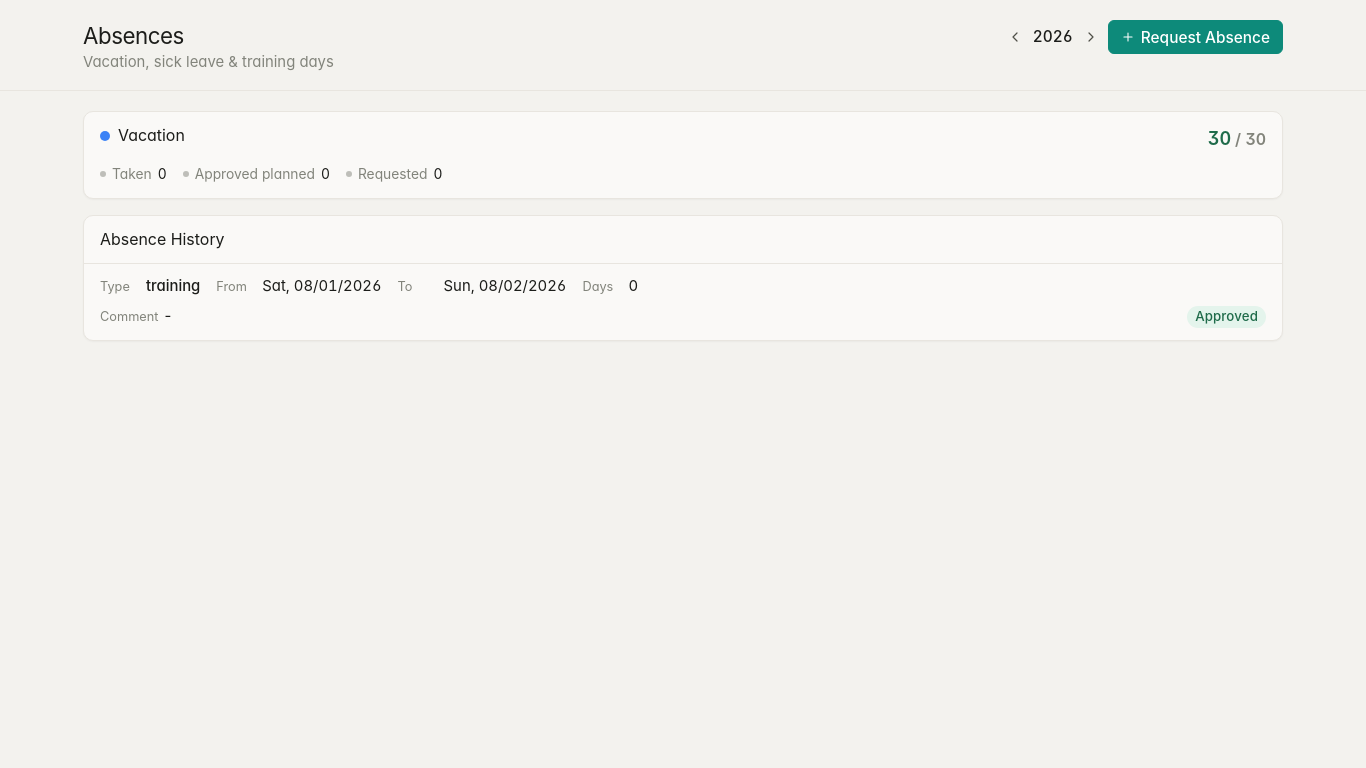
Test: Absences › shows zero days for weekend-only training absences
expect the 4th text with class "absence-entry-value" reads "0": met, box [628, 277, 638, 295]
Click the button with class "absence-entry" at coordinates (173, 286), box [84, 264, 1282, 340]
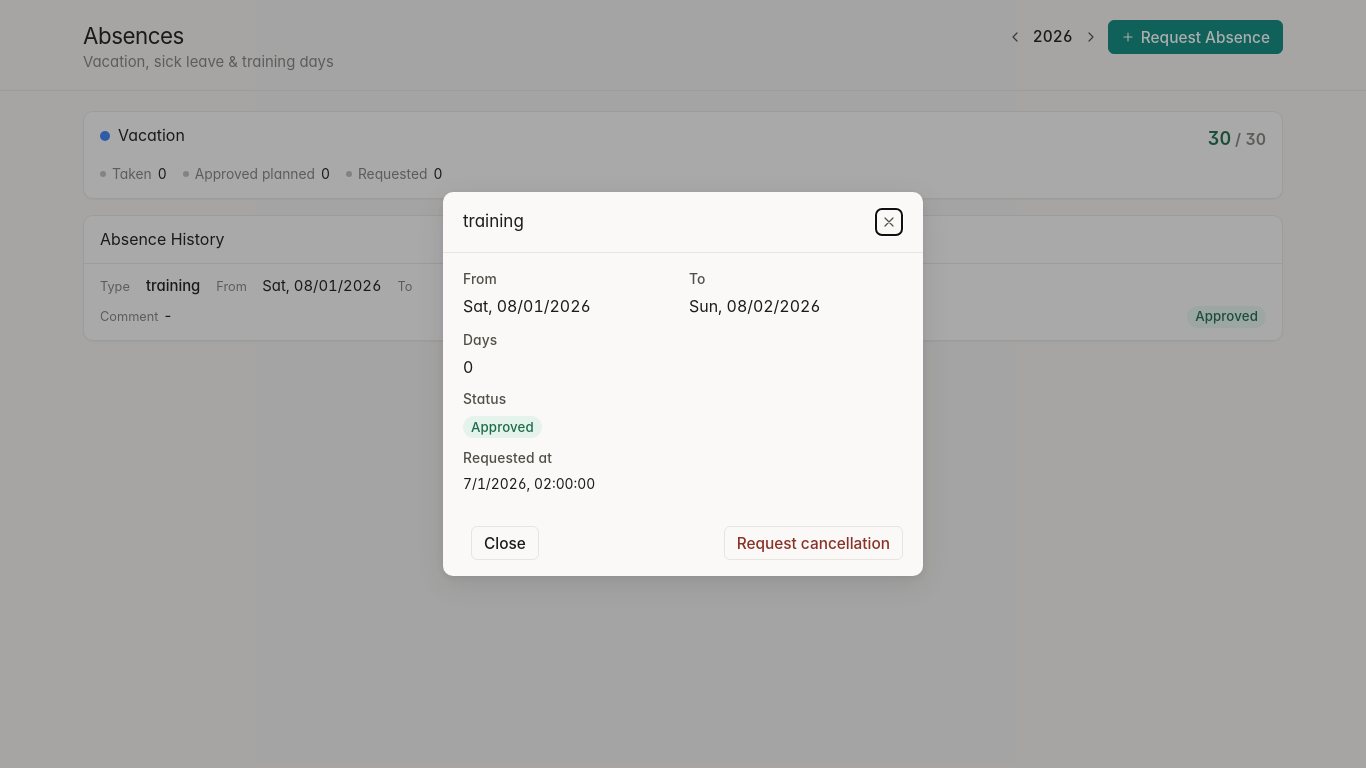
expect the button with class "zf-btn-danger" reads "Request cancellation": met, box [724, 526, 903, 560]
